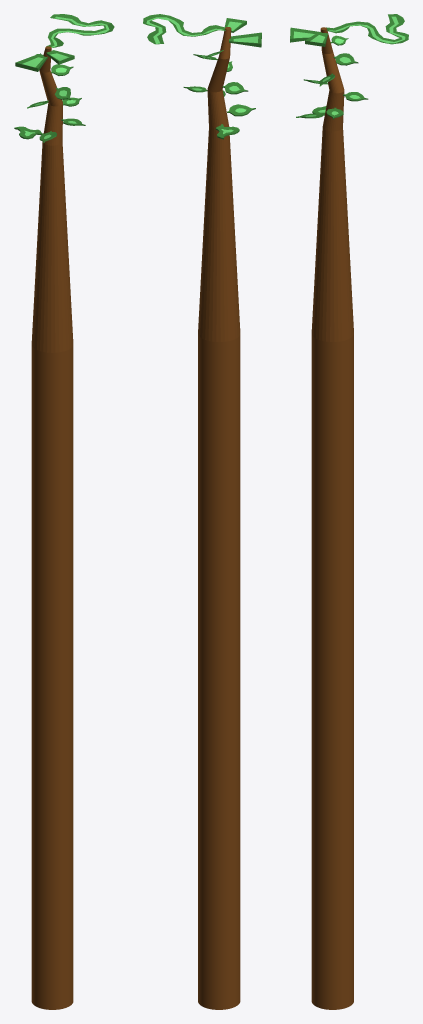
Rendered from large_tree_platform2.fbx.
3 views of the same model, side by side, from view 1: azimuth 30°, elevation 25°; view 2: azimuth 150°, elevation 25°; view 3: azimuth 330°, elevation 25° (orthographic).
Visible parts, largest first — view 1: Cylinder; view 2: Cylinder; view 3: Cylinder.
Boxes of the visible parts, box(x1,y1,x2,y2) form: Cylinder: box(14, 14, 114, 1009); Cylinder: box(143, 14, 261, 1009); Cylinder: box(290, 14, 408, 1009).
Bounding box in the file's own units: 1223 × 10536 × 957.
